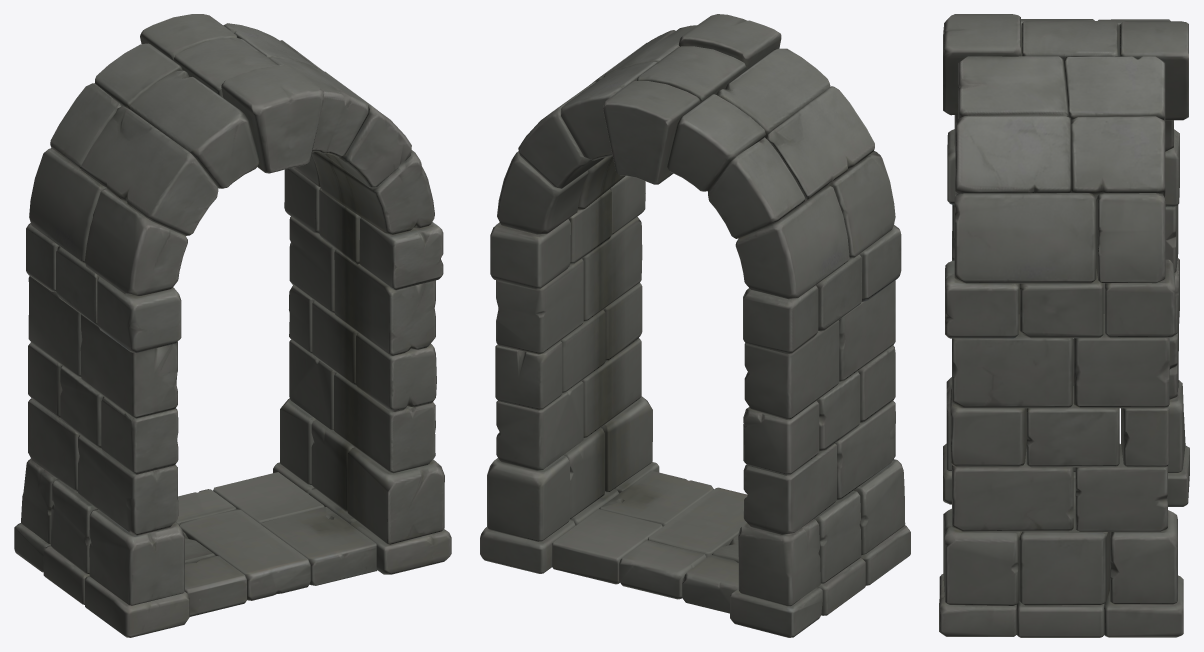
The model's file is Doorway.glb.
The picture shows the model from 3 angles, left to right: view 1: azimuth 30°, elevation 25°; view 2: azimuth 150°, elevation 25°; view 3: azimuth 270°, elevation 25°; orthographic projection. The views are drawn at different scales.
Parts seen in each view (by area): view 1: Doorway; view 2: Doorway; view 3: Doorway.
Part boxes in pixels (<box>): Doorway: <box>14,14,451,637</box>; Doorway: <box>480,14,910,637</box>; Doorway: <box>939,14,1189,637</box>.
Size of the model in its own units: 0.6724 by 0.9995 by 0.4282.
Materials: 1 (1 with a texture image).
